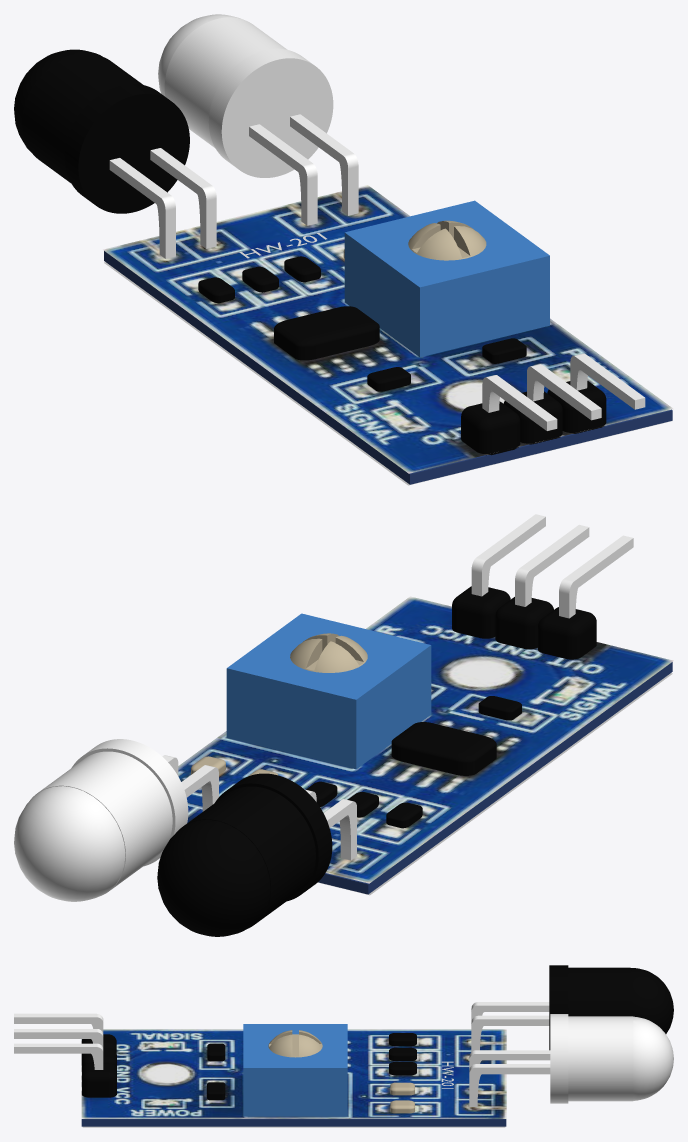
Rendered from FinalIRSensor.fbx.
3 views of the same model, one above another, from view 1: azimuth 30°, elevation 25°; view 2: azimuth 150°, elevation 25°; view 3: azimuth 270°, elevation 25° (orthographic). The views are drawn at different scales.
Parts seen in each view (by area): view 1: Object_1, Object_2, Object_26, Object_18, Object_24, Object_32, Object_0, Object_3, Object_11, Object_4, Object_22, Object_23 (+16 smaller); view 2: Object_1, Object_2, Object_33, Object_25, Object_24, Object_32, Object_3, Object_0, Object_18, Object_11, Object_4, Object_9 (+11 smaller); view 3: Object_1, Object_2, Object_24, Object_0, Object_32, Object_25, Object_33, Object_18, Object_22, Object_17, Object_4, Object_9 (+17 smaller).
Part boxes in pixels (x1,y1,x2,y2): Object_1: (103, 185, 673, 473); Object_2: (344, 200, 549, 357); Object_26: (65, 84, 189, 213); Object_18: (208, 48, 333, 177); Object_24: (164, 17, 287, 148); Object_32: (22, 54, 142, 182); Object_0: (104, 251, 672, 484); Object_3: (274, 306, 379, 360); Object_11: (461, 401, 520, 455); Object_4: (408, 220, 486, 260); Object_22: (290, 114, 358, 215); Object_23: (249, 124, 317, 225); Object_1: (178, 596, 673, 883); Object_2: (226, 613, 431, 769); Object_33: (157, 819, 270, 936); Object_25: (14, 786, 125, 901); Object_24: (29, 751, 172, 895); Object_32: (176, 786, 315, 928); Object_3: (391, 722, 496, 775); Object_0: (318, 662, 672, 894); Object_18: (71, 739, 188, 866); Object_11: (538, 607, 596, 659); Object_4: (290, 633, 367, 672); Object_9: (452, 586, 510, 638); Object_1: (81, 1029, 506, 1118); Object_2: (243, 1024, 347, 1116); Object_24: (568, 1016, 633, 1101); Object_0: (81, 1119, 506, 1126); Object_32: (568, 967, 630, 1016); Object_25: (633, 1016, 673, 1100); Object_33: (630, 968, 673, 1033); Object_18: (550, 1014, 568, 1103); Object_22: (469, 1064, 550, 1106); Object_17: (14, 1043, 103, 1069); Object_4: (268, 1030, 322, 1057); Object_9: (82, 1063, 116, 1097).
Size of the model in its own units: 12815 by 6486 by 39808.
